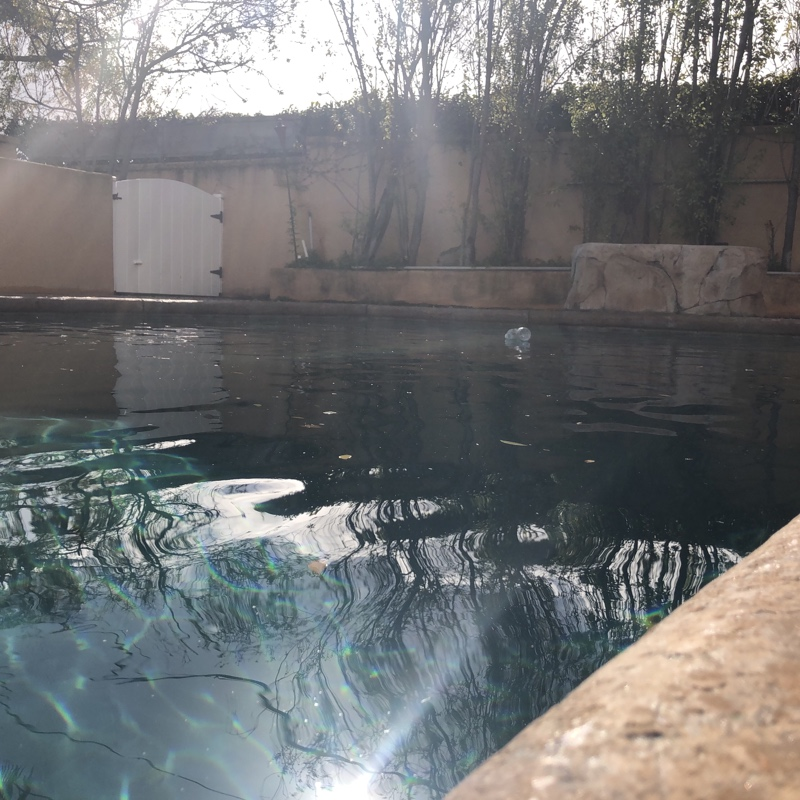Plastic Bottle: (501, 326, 531, 345)
